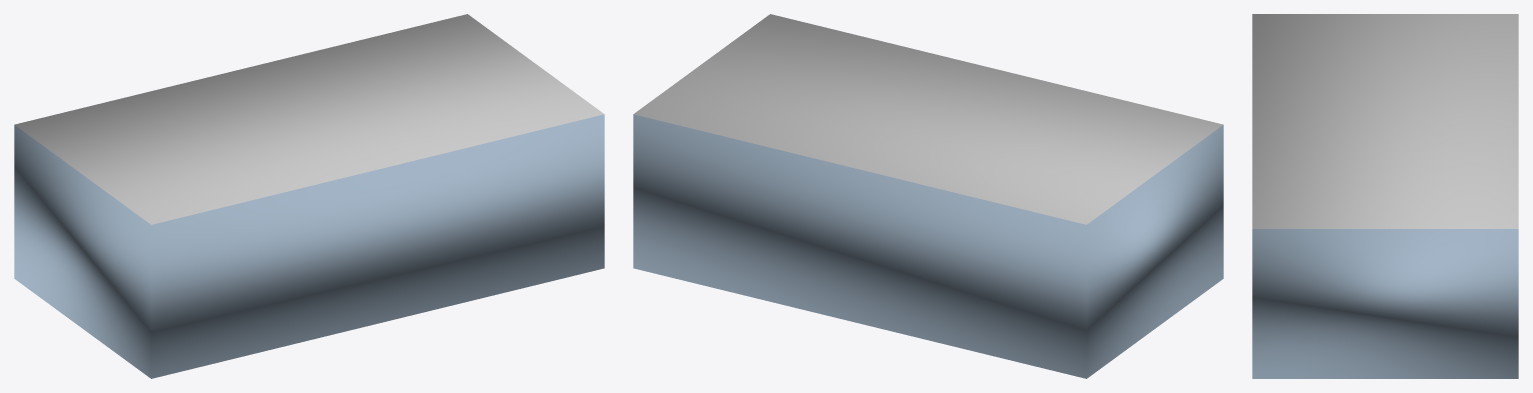
The model's file is classroom.fbx.
The picture shows the model from 3 angles, left to right: view 1: azimuth 30°, elevation 25°; view 2: azimuth 150°, elevation 25°; view 3: azimuth 270°, elevation 25°; orthographic projection. The views are drawn at different scales.
Parts seen in each view (by area): view 1: Cube; view 2: Cube; view 3: Cube.
Boxes of the visible parts, x1,y1,x2,y2 form: Cube: [14, 14, 604, 378]; Cube: [633, 14, 1223, 378]; Cube: [1252, 14, 1518, 378].
Bounding box in the file's own units: 4228 × 1373 × 2213.
